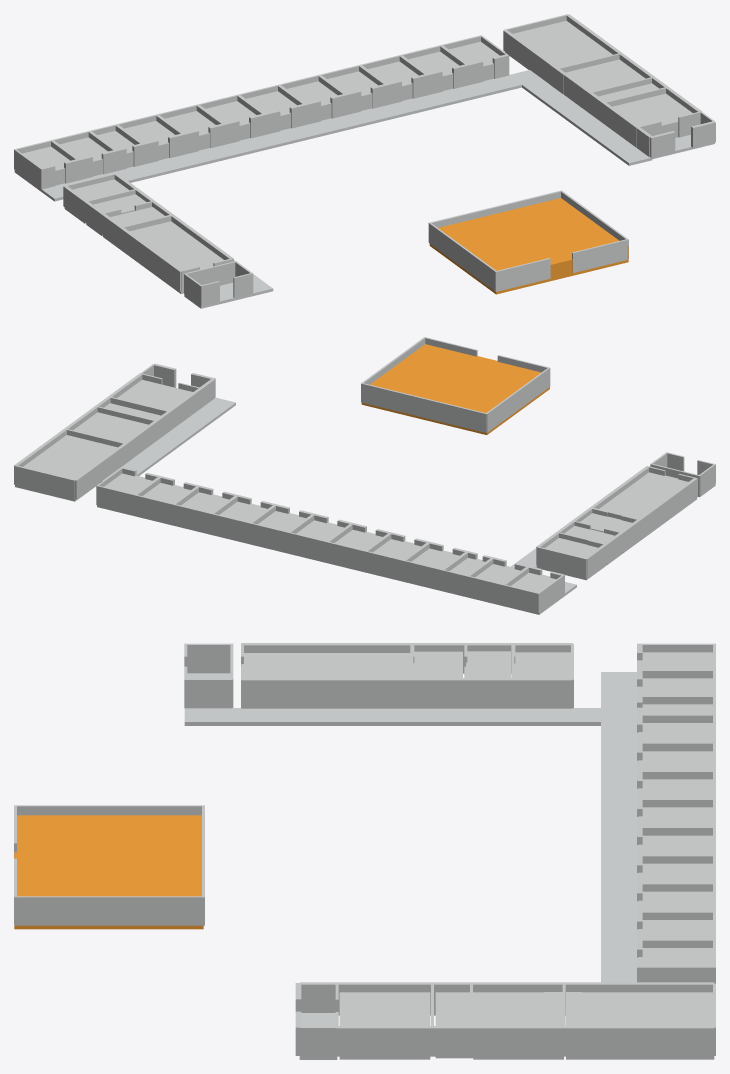
Rendered from level-4.glb.
3 renders of one model, top to bottom at view 1: azimuth 30°, elevation 25°; view 2: azimuth 150°, elevation 25°; view 3: azimuth 270°, elevation 25°, orthographic. The views are drawn at different scales.
Visible parts, largest first — view 1: E corridor.003, Hall | floor, C corridor.003, Rifle Range | floor.001, Kitchen 01 | floor.002, Stage | floor, Hall | wall W, Kitchen 01 | floor.001, LearningResource 01 | floor.001, Hall | wall S-left.001, Hall | wall S-left, LearningResource 02 | floor.001 (+28 smaller); view 2: Hall | floor, Rifle Range | floor.001, C corridor.003, Hall | wall N, Stage | floor, Hall | wall W, Kitchen 01 | floor.002, Kitchen 01 | floor.001, Rifle Range | wall N.001, LearningResource 02 | floor.001, Rifle Range | wall W.001, History / Geo | wall N.001 (+36 smaller); view 3: Hall | floor, E corridor.003, F corridor.003, Stage | wall E, Rifle Range | floor.001, Rifle Range | wall E.001, Kitchen 01 | floor.002, Kitchen 01 | floor.001, Stage | floor, History / Geo | wall E.001, LearningResource 01 | wall E.001, LearningResource 02 | wall E.001 (+38 smaller).
Part boxes in pixels (<box>): E corridor.003: <box>41,70,542,201</box>; Hall | floor: <box>429,204,599,294</box>; C corridor.003: <box>522,79,652,165</box>; Rifle Range | floor.001: <box>505,20,612,69</box>; Kitchen 01 | floor.002: <box>612,93,692,137</box>; Stage | floor: <box>534,198,628,268</box>; Hall | wall W: <box>429,223,497,291</box>; Kitchen 01 | floor.001: <box>565,59,645,91</box>; LearningResource 01 | floor.001: <box>121,221,200,271</box>; Hall | wall S-left.001: <box>572,239,627,272</box>; Hall | wall S-left: <box>495,258,550,291</box>; LearningResource 02 | floor.001: <box>151,243,223,293</box>; Hall | floor: <box>389,350,549,434</box>; Rifle Range | floor.001: <box>15,435,117,501</box>; C corridor.003: <box>115,397,235,475</box>; Hall | wall N: <box>388,389,487,432</box>; Stage | floor: <box>361,344,450,411</box>; Hall | wall W: <box>486,368,550,432</box>; Kitchen 01 | floor.002: <box>117,379,192,410</box>; Kitchen 01 | floor.001: <box>73,412,148,442</box>; Rifle Range | wall N.001: <box>14,465,74,499</box>; LearningResource 02 | floor.001: <box>622,472,696,519</box>; Rifle Range | wall W.001: <box>74,447,120,499</box>; History / Geo | wall N.001: <box>537,547,586,577</box>; Hall | floor: <box>14,815,201,886</box>; E corridor.003: <box>601,672,636,982</box>; F corridor.003: <box>184,708,600,725</box>; Stage | wall E: <box>14,896,203,925</box>; Rifle Range | floor.001: <box>566,992,714,1059</box>; Rifle Range | wall E.001: <box>582,1026,714,1056</box>; Kitchen 01 | floor.002: <box>339,992,430,1059</box>; Kitchen 01 | floor.001: <box>473,992,563,1059</box>; Stage | floor: <box>14,886,203,929</box>; History / Geo | wall E.001: <box>478,678,572,708</box>; LearningResource 01 | wall E.001: <box>326,678,411,708</box>; LearningResource 02 | wall E.001: <box>241,678,326,708</box>.
Size of the model in its own units: 96.36 by 3.89 by 74.2.
